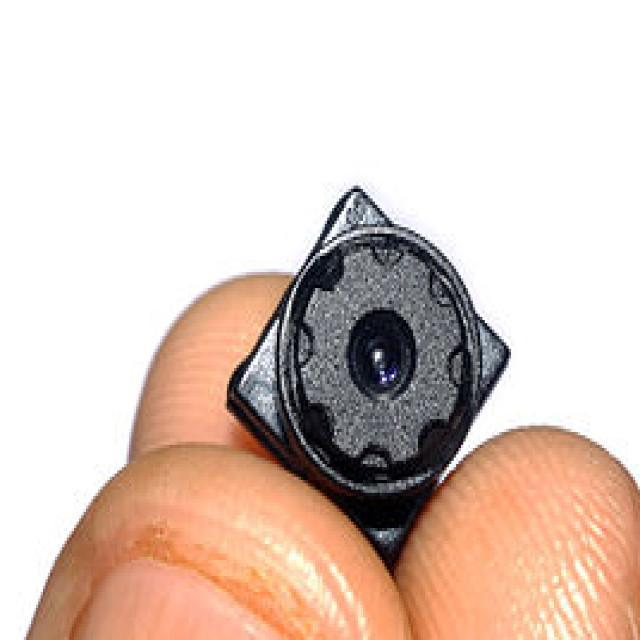hidden camera: (262, 193, 499, 520)
